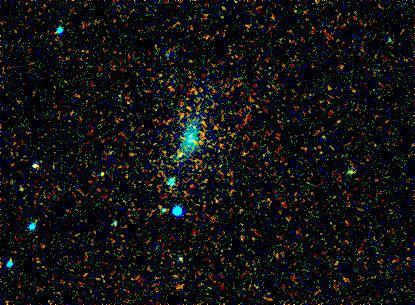star: (166, 139, 196, 169)
